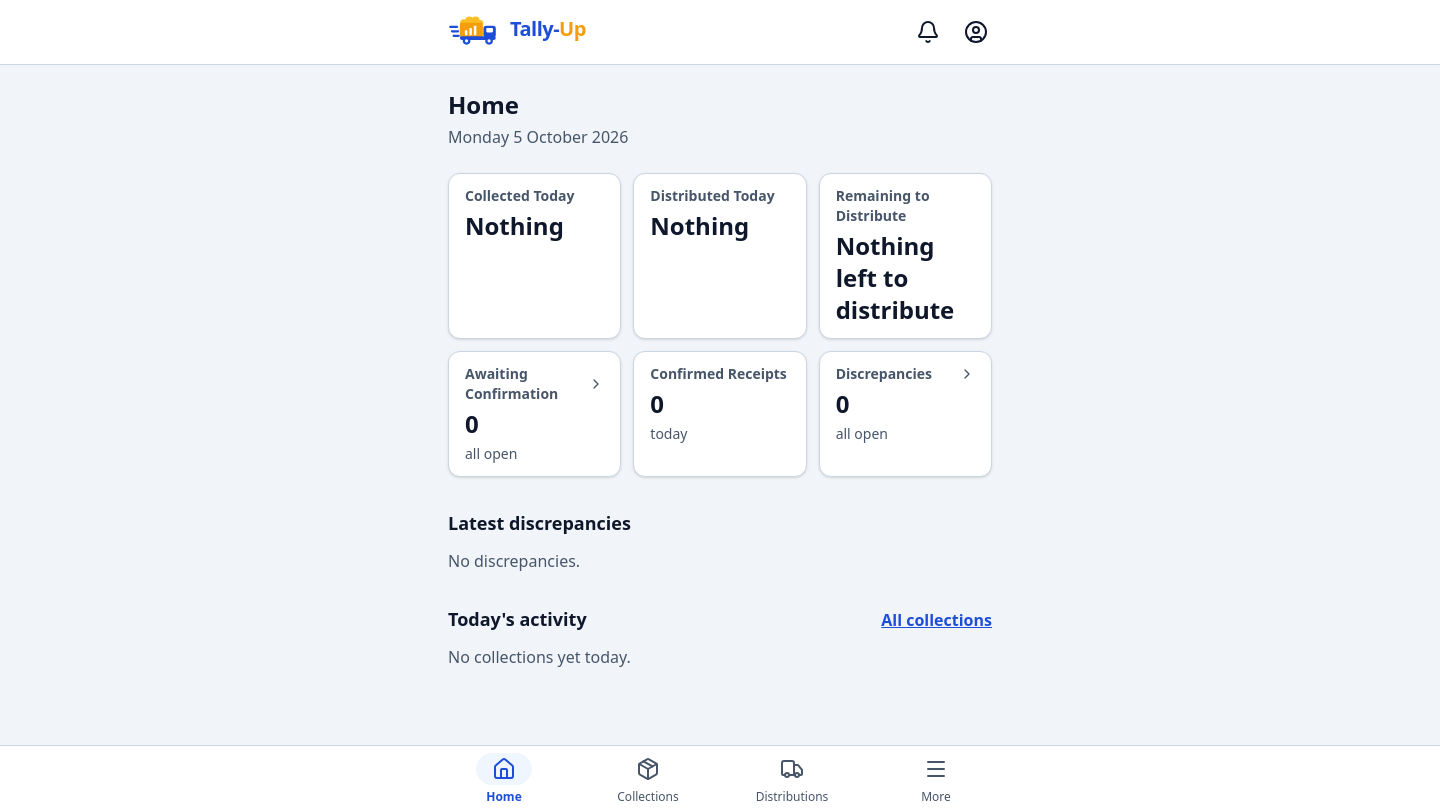
Scenario: Admin portal (Q-47) › closes the account menu when tapping outside it
Click the button named "Account" at (976, 32), box [952,8,1000,56]
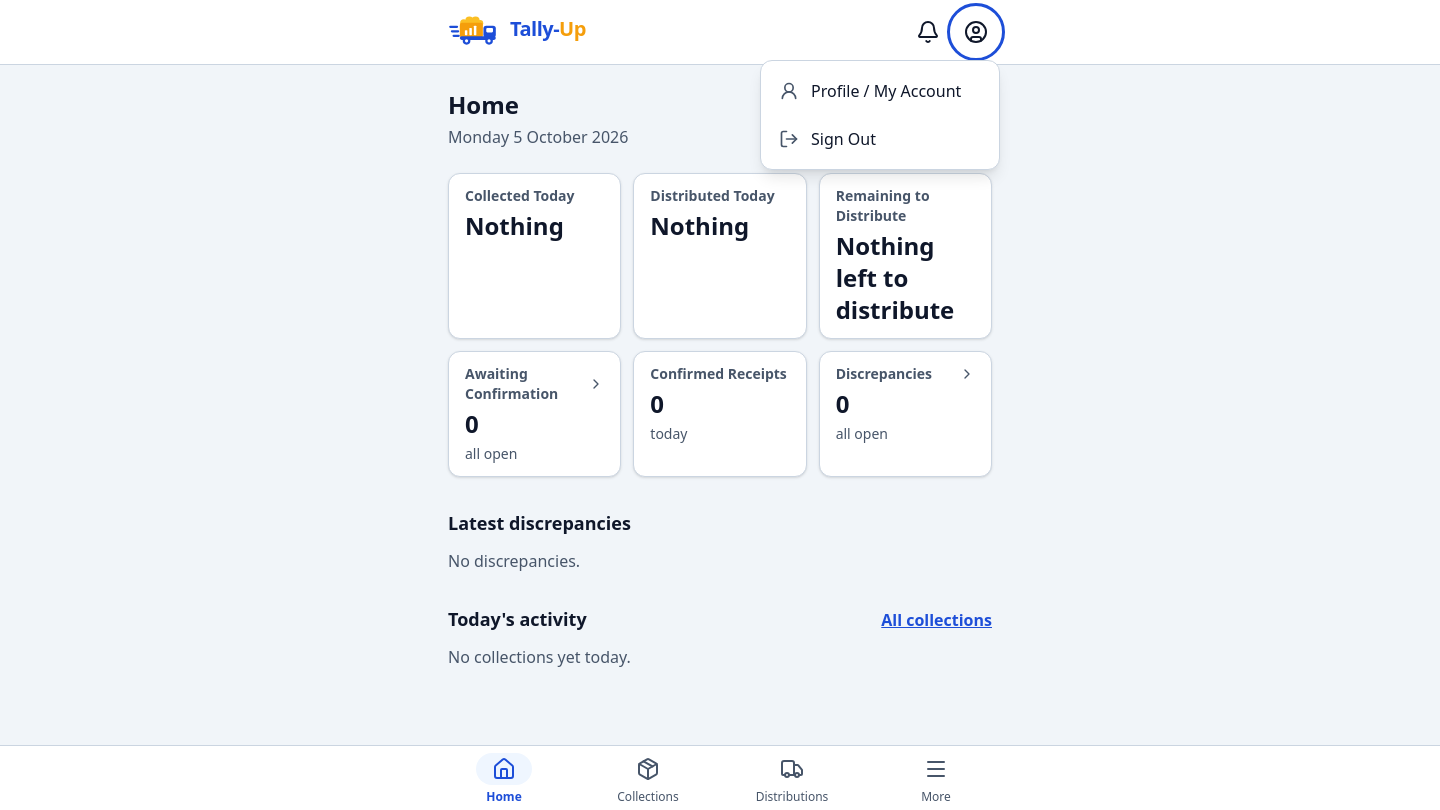
Click the heading "Home" at (484, 104), box [448,88,519,121]
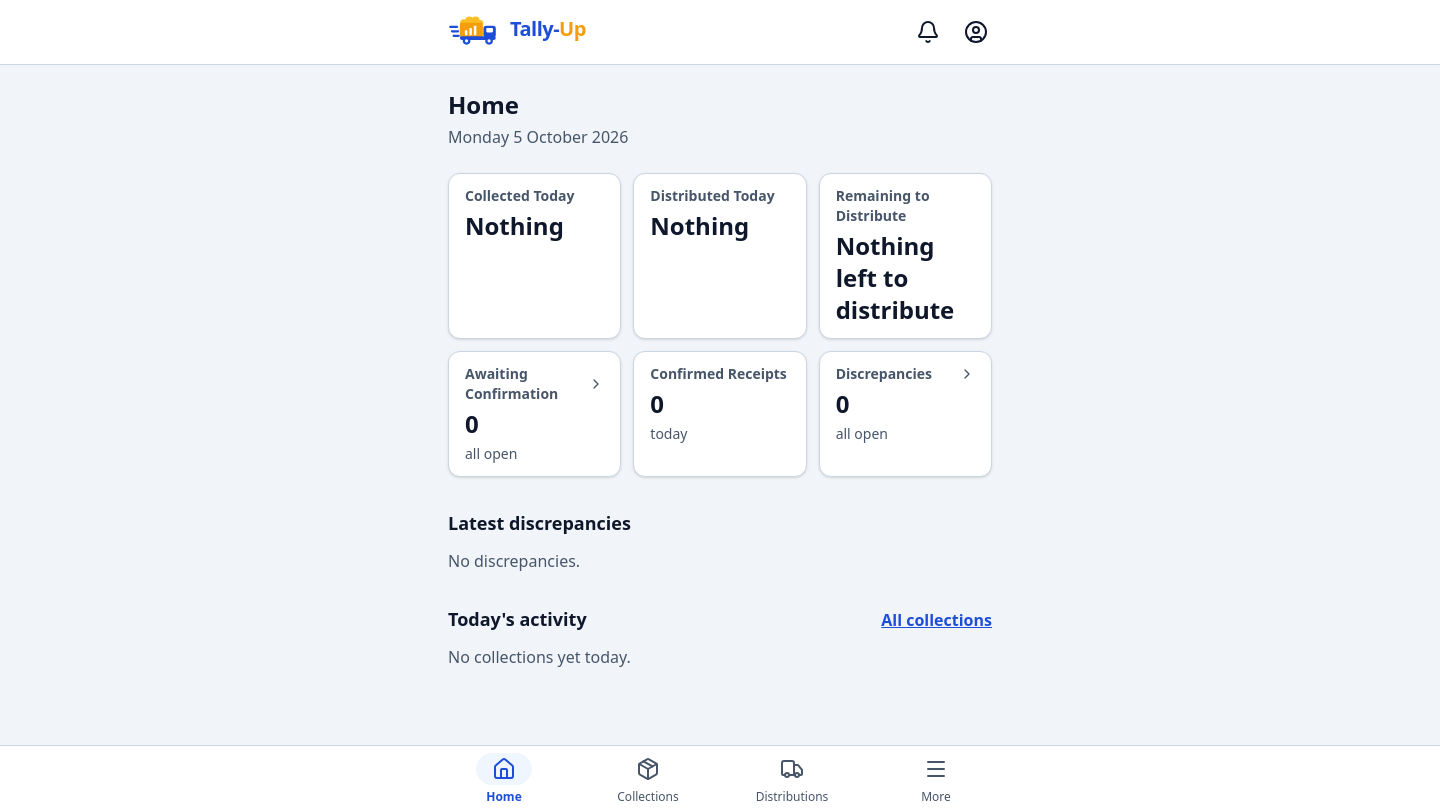
Result: the button named "Account" is collapsed at [952,8,1000,56]
